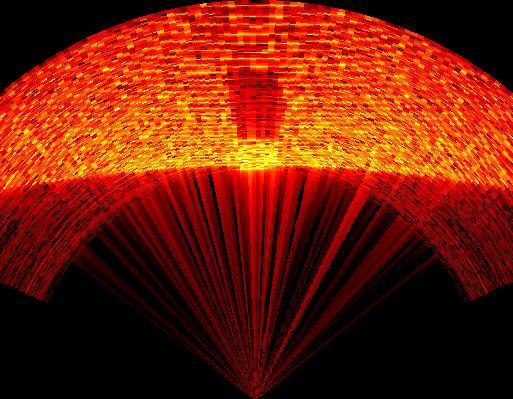box_crate: (218, 63, 293, 180)
